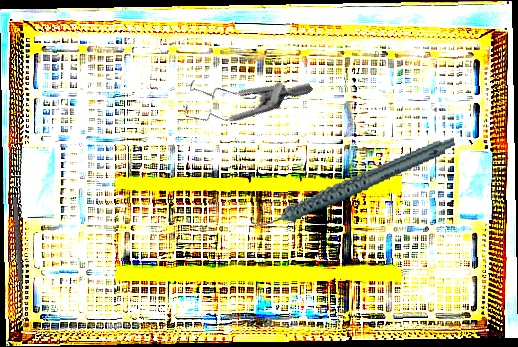Handpiece: (242, 136, 464, 231)
Hook Surgical: (10, 196, 32, 318)
Speculum: (171, 25, 314, 162)
